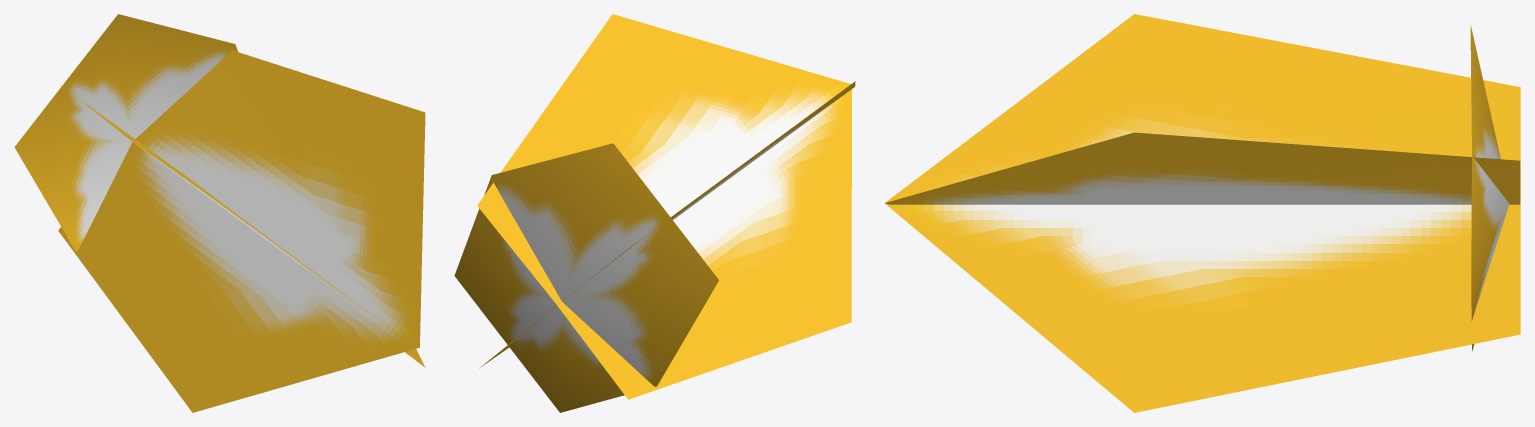
Rendered from fx_muzle.fbx.
3 views of the same model, side by side, from view 1: azimuth 30°, elevation 25°; view 2: azimuth 150°, elevation 25°; view 3: azimuth 270°, elevation 25° (orthographic). The views are drawn at different scales.
Visible parts, largest first — view 1: fx_muzle; view 2: fx_muzle; view 3: fx_muzle.
Part boxes in pixels (left/top/right/bottom): fx_muzle: left=14, top=14, right=425, bottom=412; fx_muzle: left=454, top=14, right=855, bottom=412; fx_muzle: left=885, top=14, right=1520, bottom=412.
Bounding box in the file's own units: 59.99 × 62.08 × 117.
